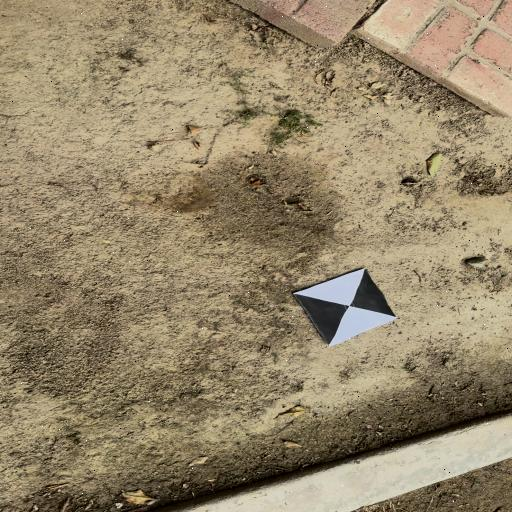target: (293, 269, 398, 346)
